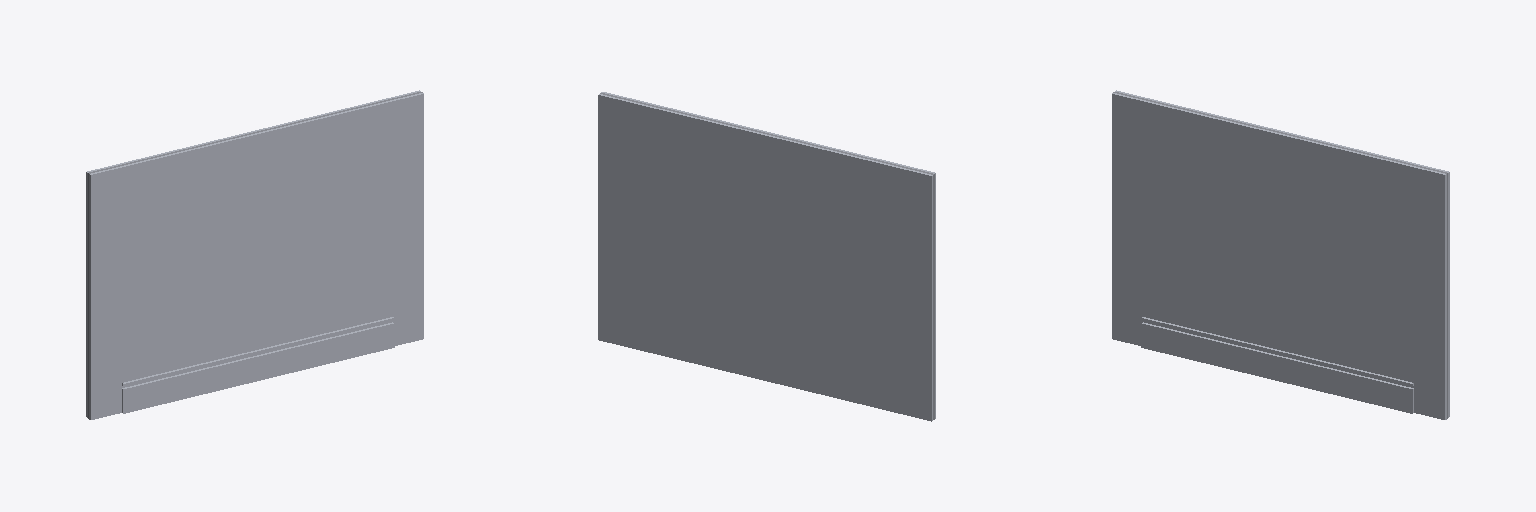
3 views of the same model, side by side, from view 1: azimuth 30°, elevation 25°; view 2: azimuth 150°, elevation 25°; view 3: azimuth 330°, elevation 25° (orthographic).
Visible parts, largest first — view 1: Wall_Blank; view 2: Wall_Blank; view 3: Wall_Blank.
Boxes of the visible parts, <box> form: Wall_Blank: <box>86,90,423,419</box>; Wall_Blank: <box>598,92,935,421</box>; Wall_Blank: <box>1112,90,1449,419</box>.
Size of the model in its own units: 128 by 90 by 4.
Materials: 1 (1 with a texture image).